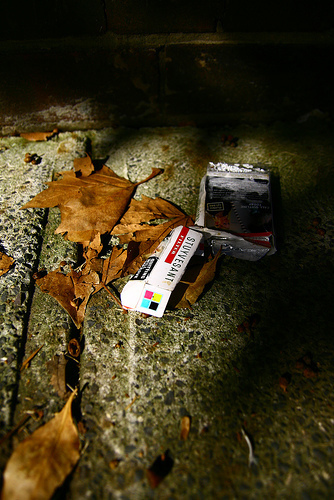litter: (119, 226, 201, 323), (200, 164, 278, 261)
